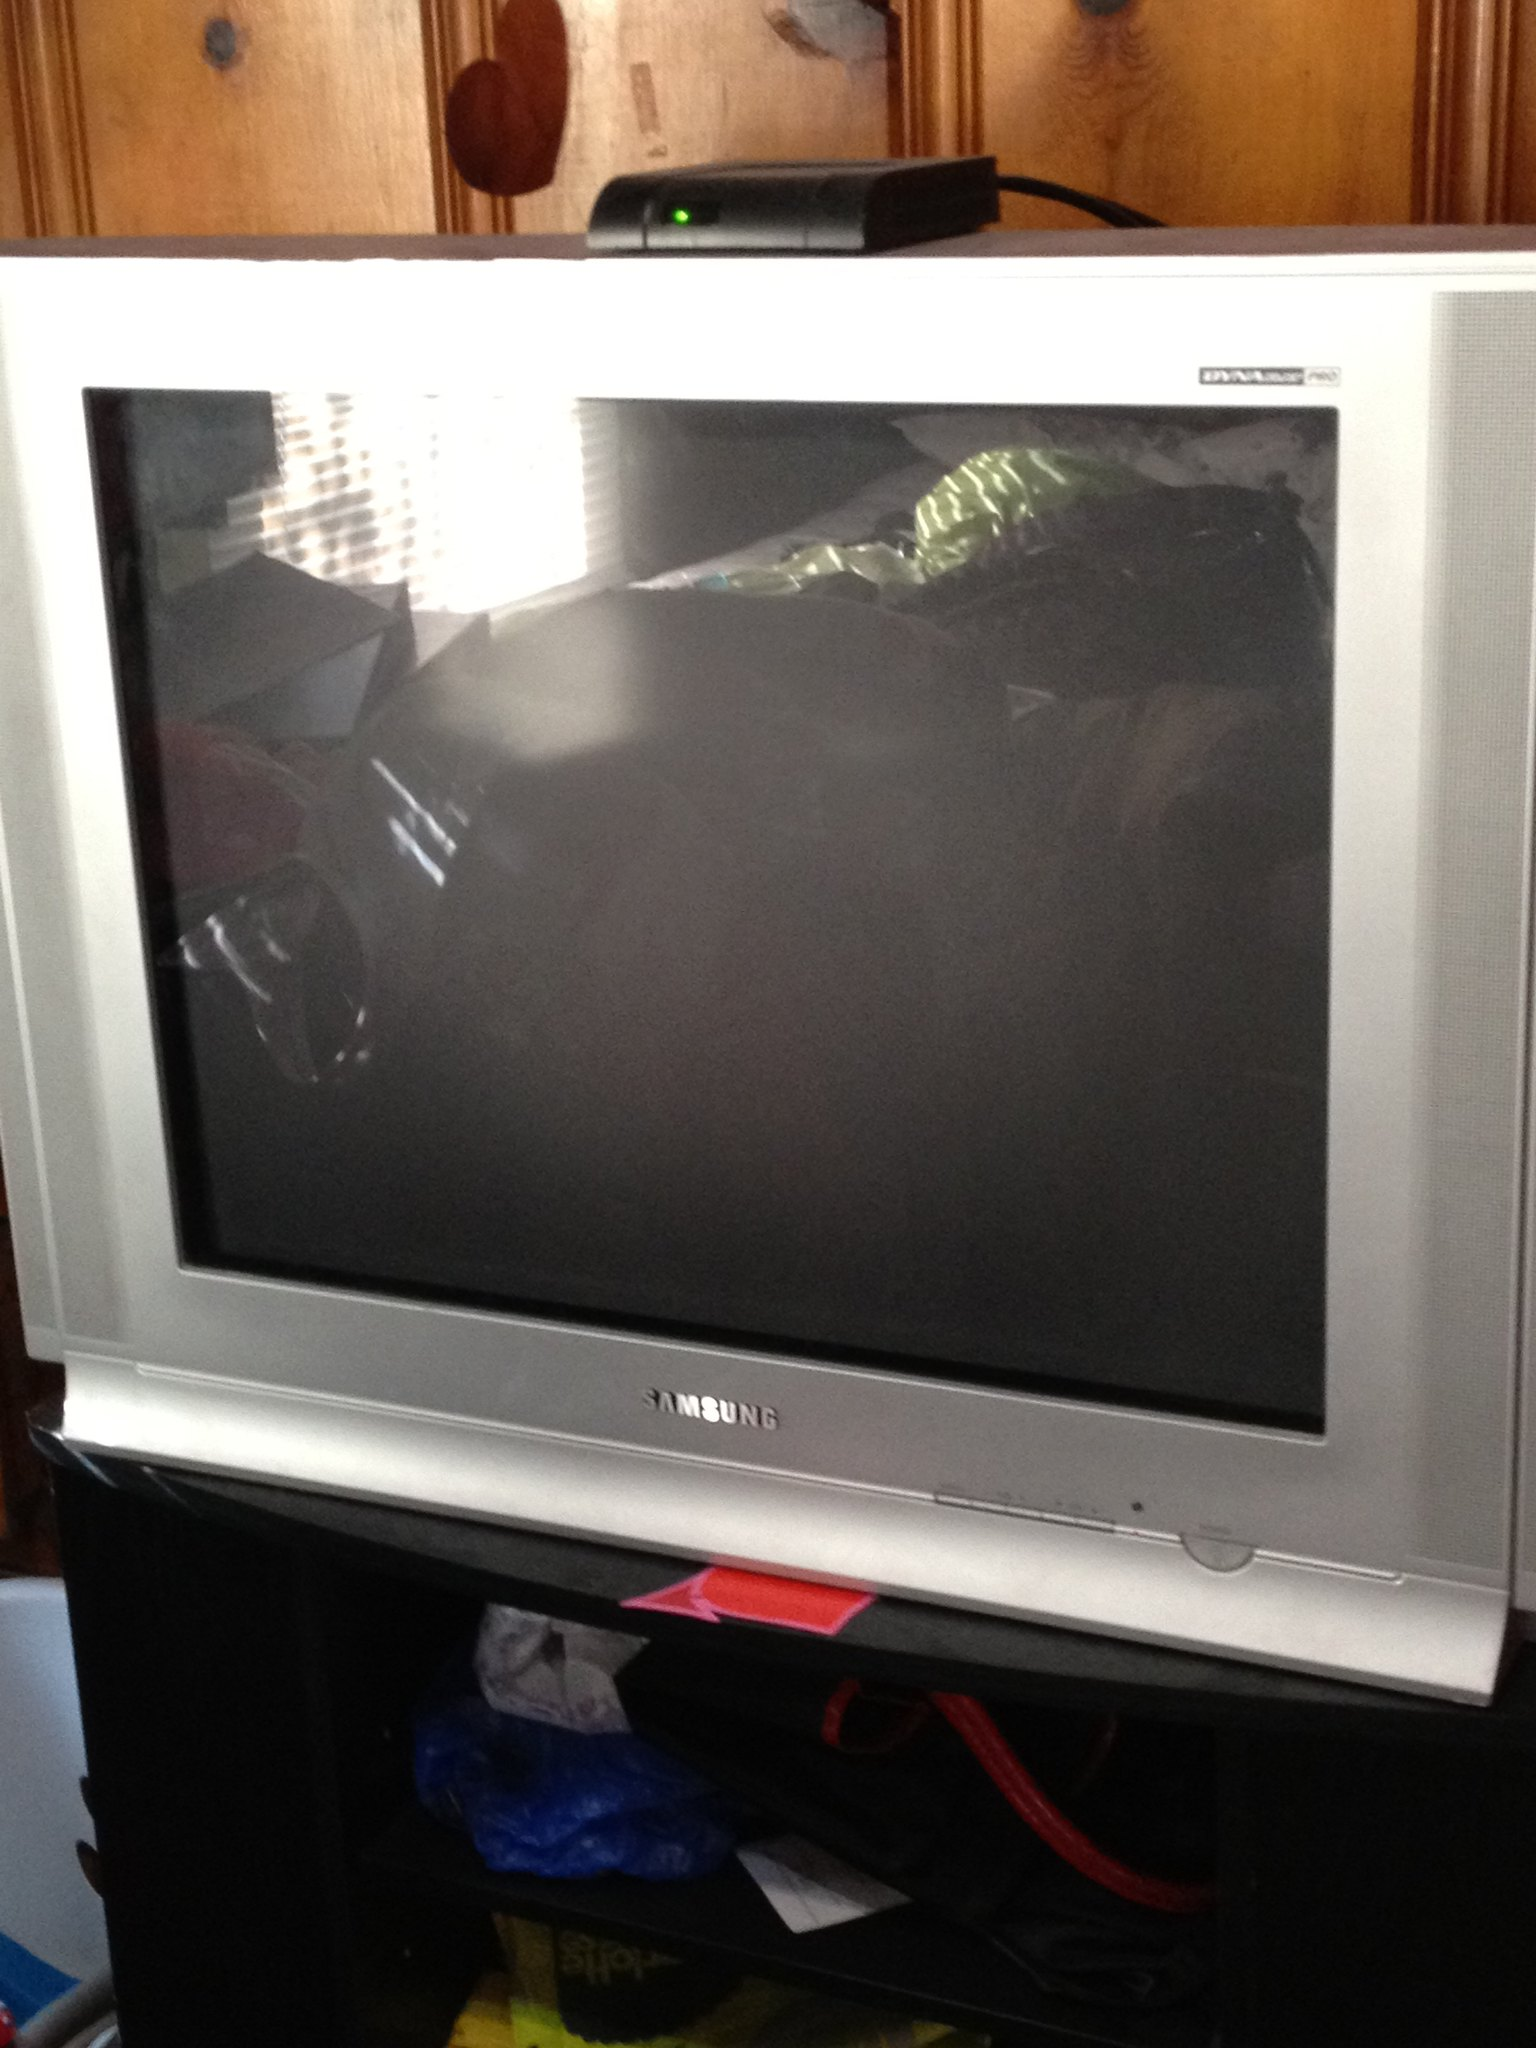tv monitor: (18, 218, 1520, 1738)
